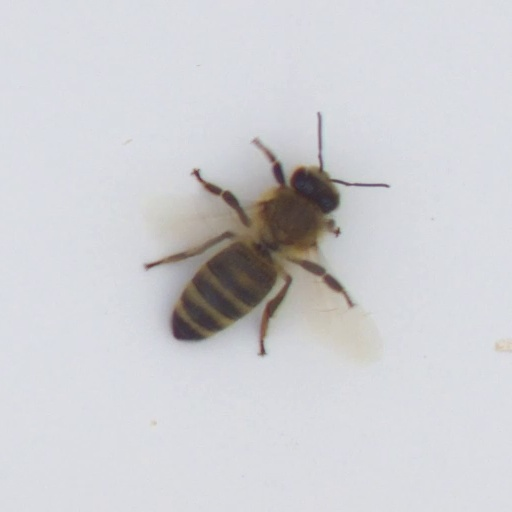Bee: (142, 158, 355, 360)
Thorax: (255, 184, 330, 251)
